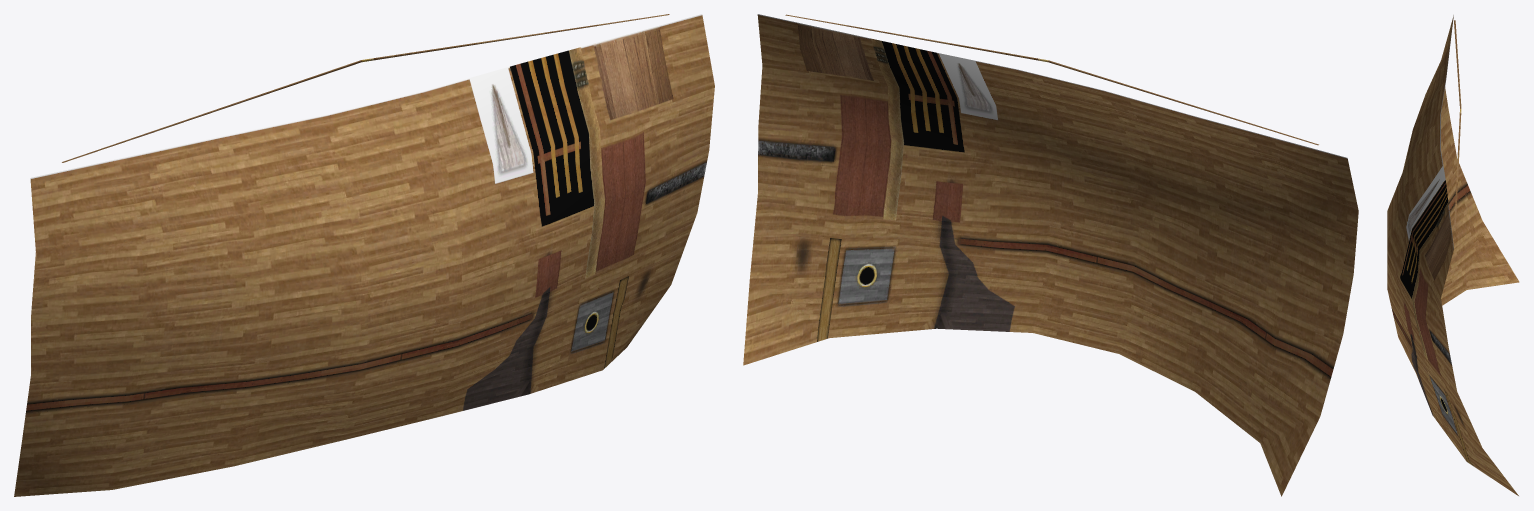
Rendered from hele_trireme_sail.dae.
3 views of the same model, side by side, from view 1: azimuth 30°, elevation 25°; view 2: azimuth 150°, elevation 25°; view 3: azimuth 270°, elevation 25° (orthographic). The views are drawn at different scales.
Visible parts, largest first — view 1: Plane; view 2: Plane; view 3: Plane.
Part boxes in pixels (left/top/right/bottom): Plane: left=14, top=14, right=714, bottom=496; Plane: left=743, top=14, right=1358, bottom=496; Plane: left=1387, top=15, right=1519, bottom=495.
Size of the model in its own units: 10.18 by 5.61 by 2.4.
